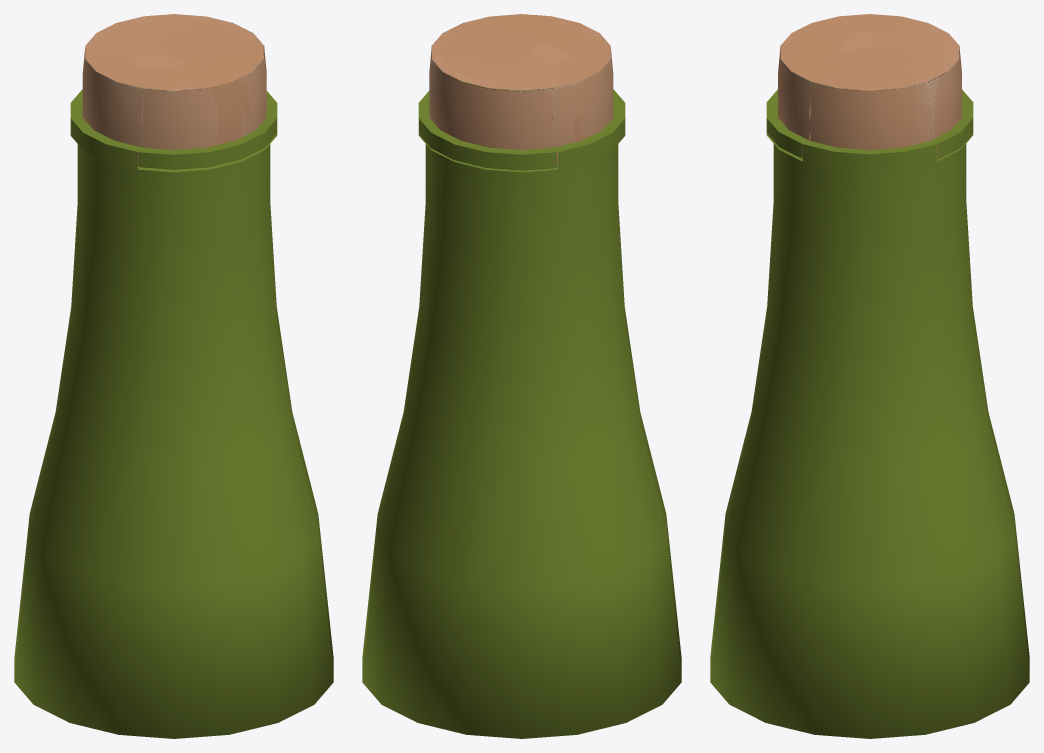
File: AttackUp.fbx
3 renders of one model, left to right at view 1: azimuth 30°, elevation 25°; view 2: azimuth 150°, elevation 25°; view 3: azimuth 270°, elevation 25°, orthographic.
Parts seen in each view (by area): view 1: Cylinder001, Cylinder002; view 2: Cylinder001, Cylinder002; view 3: Cylinder001, Cylinder002.
Part boxes in pixels (box(x1,y1,x2,y2)): Cylinder001: box(14, 81, 333, 738); Cylinder002: box(82, 14, 266, 164); Cylinder001: box(362, 80, 681, 738); Cylinder002: box(429, 14, 613, 164); Cylinder001: box(710, 80, 1029, 738); Cylinder002: box(778, 14, 961, 156).
Bounding box in the file's own units: 9.49 × 9.35 × 19.95.
Materials: 2 (2 with a texture image).
